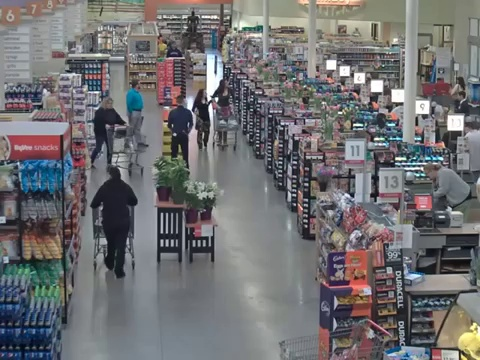face: (105, 100, 112, 108), (222, 80, 229, 87), (201, 90, 207, 98)
